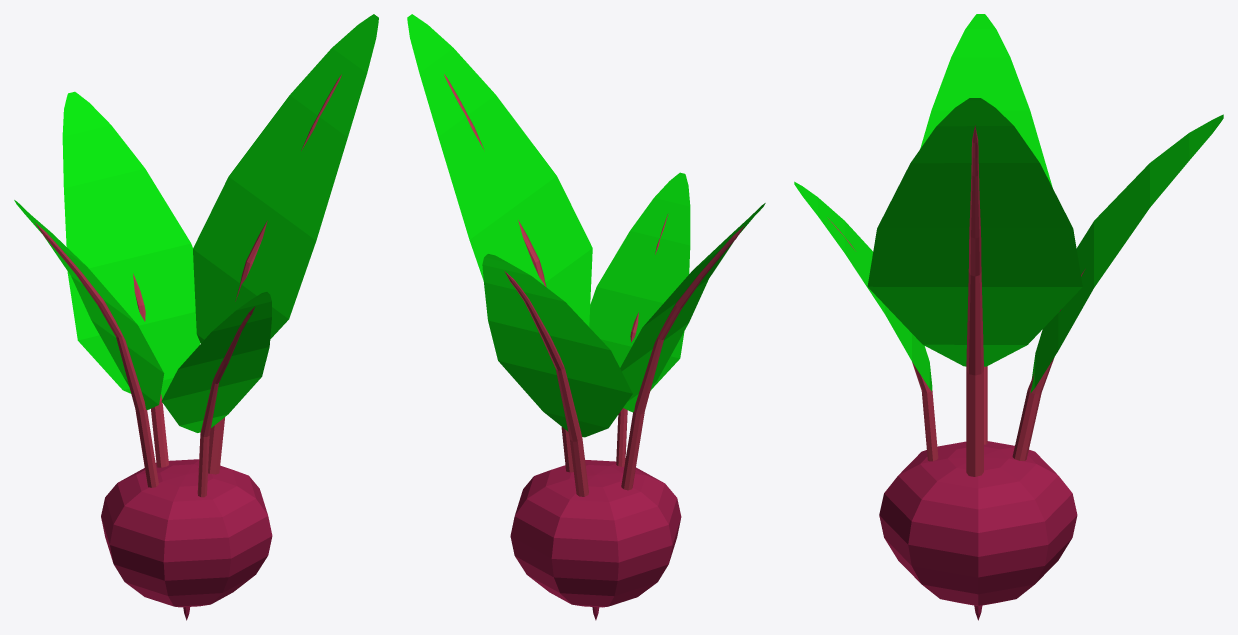
Rendered from beetroot.glb.
3 views of the same model, side by side, from view 1: azimuth 30°, elevation 25°; view 2: azimuth 150°, elevation 25°; view 3: azimuth 270°, elevation 25° (orthographic). The views are drawn at different scales.
Parts seen in each view (by area): view 1: Leaf.002, Leaf.001, Low Poly Beet.001, Leaf.004, Leaf.003, Low Poly Stalk.003, Low Poly Stalk.004, Low Poly Stalk.002, Low Poly Stalk.001; view 2: Leaf.002, Low Poly Beet.001, Leaf.001, Leaf.004, Leaf.003, Low Poly Stalk.003, Low Poly Stalk.001, Low Poly Stalk.002, Low Poly Stalk.004; view 3: Leaf.002, Low Poly Beet.001, Leaf.001, Leaf.003, Low Poly Stalk.002, Leaf.004, Low Poly Stalk.001, Low Poly Stalk.004.
Part boxes in pixels (left/top/right/bottom): Leaf.002: left=193, top=14, right=378, bottom=343; Leaf.001: left=62, top=91, right=200, bottom=398; Low Poly Beet.001: left=101, top=459, right=272, bottom=620; Leaf.004: left=161, top=292, right=271, bottom=432; Leaf.003: left=14, top=200, right=164, bottom=409; Low Poly Stalk.003: left=35, top=223, right=158, bottom=487; Low Poly Stalk.004: left=197, top=306, right=255, bottom=497; Low Poly Stalk.002: left=208, top=74, right=341, bottom=474; Low Poly Stalk.001: left=133, top=273, right=168, bottom=467; Leaf.002: left=407, top=14, right=592, bottom=326; Low Poly Beet.001: left=510, top=460, right=681, bottom=620; Leaf.001: left=482, top=254, right=632, bottom=437; Leaf.004: left=589, top=172, right=690, bottom=388; Leaf.003: left=620, top=203, right=765, bottom=412; Low Poly Stalk.003: left=621, top=225, right=744, bottom=490; Low Poly Stalk.001: left=504, top=271, right=588, bottom=496; Low Poly Stalk.002: left=444, top=74, right=573, bottom=472; Low Poly Stalk.004: left=616, top=214, right=668, bottom=466; Leaf.002: left=867, top=98, right=1082, bottom=366; Low Poly Beet.001: left=879, top=441, right=1077, bottom=620; Leaf.001: left=1030, top=114, right=1223, bottom=392; Leaf.003: left=920, top=14, right=1052, bottom=187; Low Poly Stalk.002: left=966, top=125, right=983, bottom=476; Leaf.004: left=794, top=181, right=932, bottom=391; Low Poly Stalk.001: left=1012, top=269, right=1085, bottom=460; Low Poly Stalk.004: left=827, top=217, right=938, bottom=461.
Bounding box in the file's own units: 2.33 × 3.48 × 2.17.
